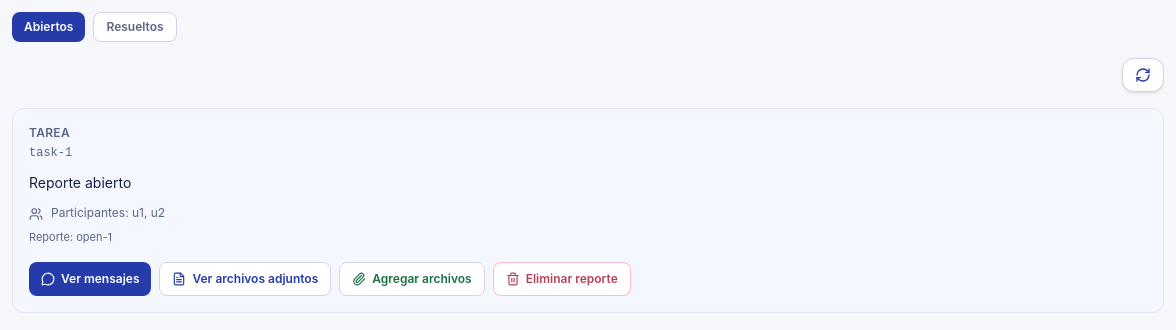
Test case: TaskReportsTab › filtra reportes abiertos y resueltos en el panel de usuario común
Expected: the text "Reporte abierto" is shown, x1=29 y1=174 x2=131 y2=191
Expected: the text "Reporte resuelto" is not shown
Step 1. Click the button "Resueltos" → [135, 27], box x1=94 y1=12 x2=177 y2=42
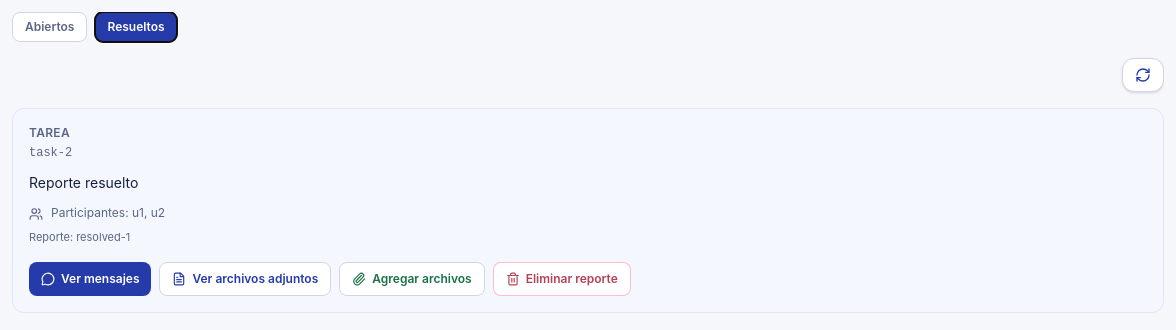
Expected: the text "Reporte resuelto" is shown, x1=29 y1=174 x2=138 y2=191
Expected: the text "Reporte abierto" is gone
